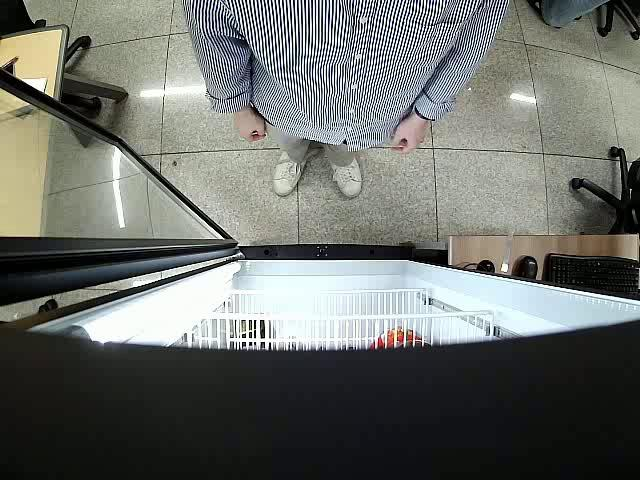00_hand: (389, 116, 429, 153), (231, 115, 270, 143)
